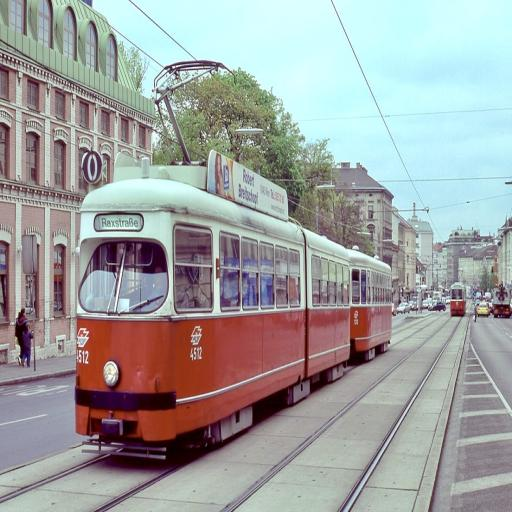E2-Tram: (74, 138, 390, 436), (450, 281, 467, 316)
